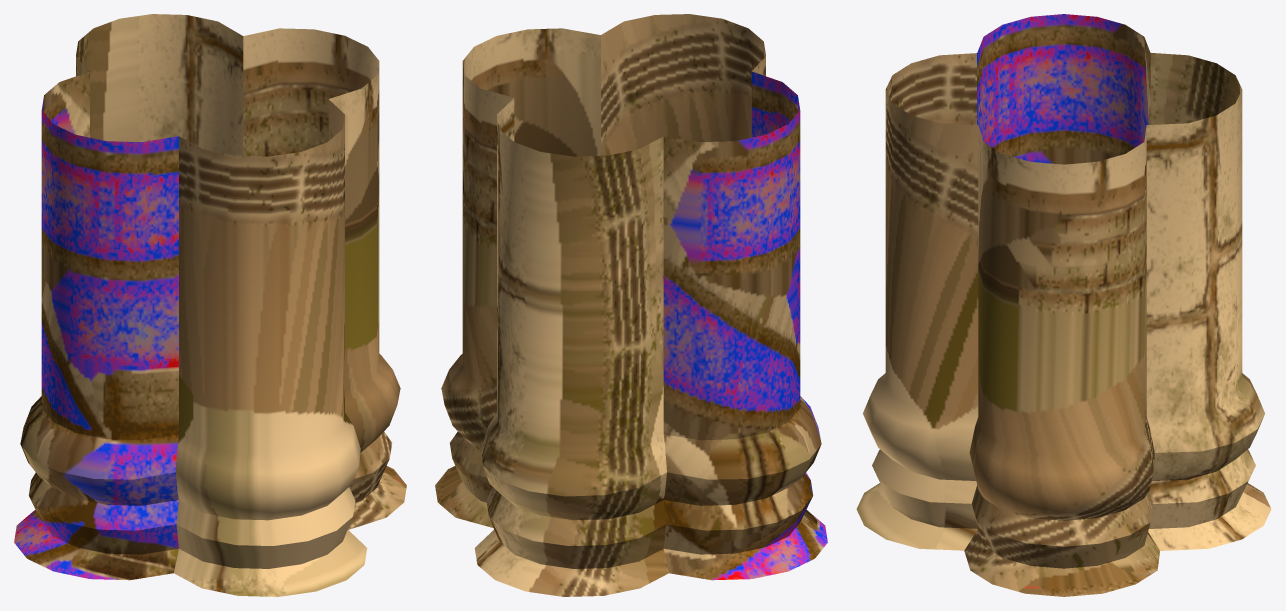
Rendered from SM_Columna1Base.fbx.
The picture shows the model from 3 angles, left to right: view 1: azimuth 30°, elevation 25°; view 2: azimuth 150°, elevation 25°; view 3: azimuth 270°, elevation 25°; orthographic projection. The views are drawn at different scales.
Parts seen in each view (by area): view 1: SM_Columna1Base; view 2: SM_Columna1Base; view 3: SM_Columna1Base.
Part boxes in pixels (bbox=[...]): SM_Columna1Base: bbox=[14, 14, 406, 596]; SM_Columna1Base: bbox=[435, 14, 827, 596]; SM_Columna1Base: bbox=[856, 14, 1271, 596].
Bounding box in the file's own units: 89.58 × 100 × 89.58.
